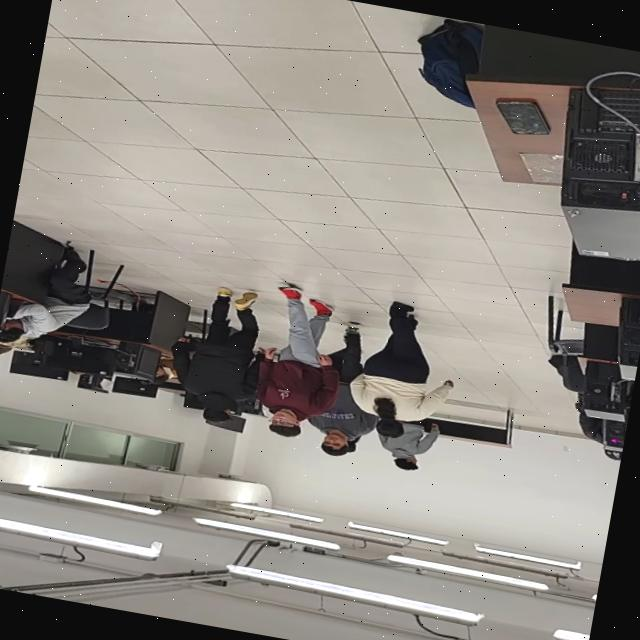Persona: (338, 289, 461, 448), (245, 278, 346, 449), (170, 272, 276, 434), (310, 309, 388, 466)
